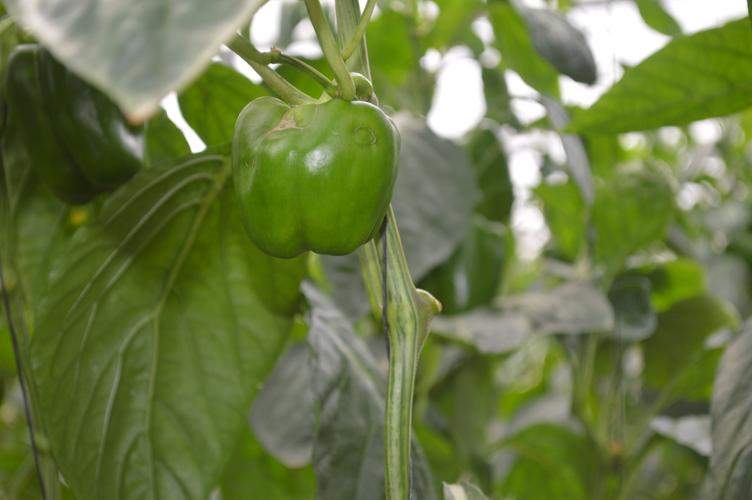BellPepper: (233, 97, 398, 260)
